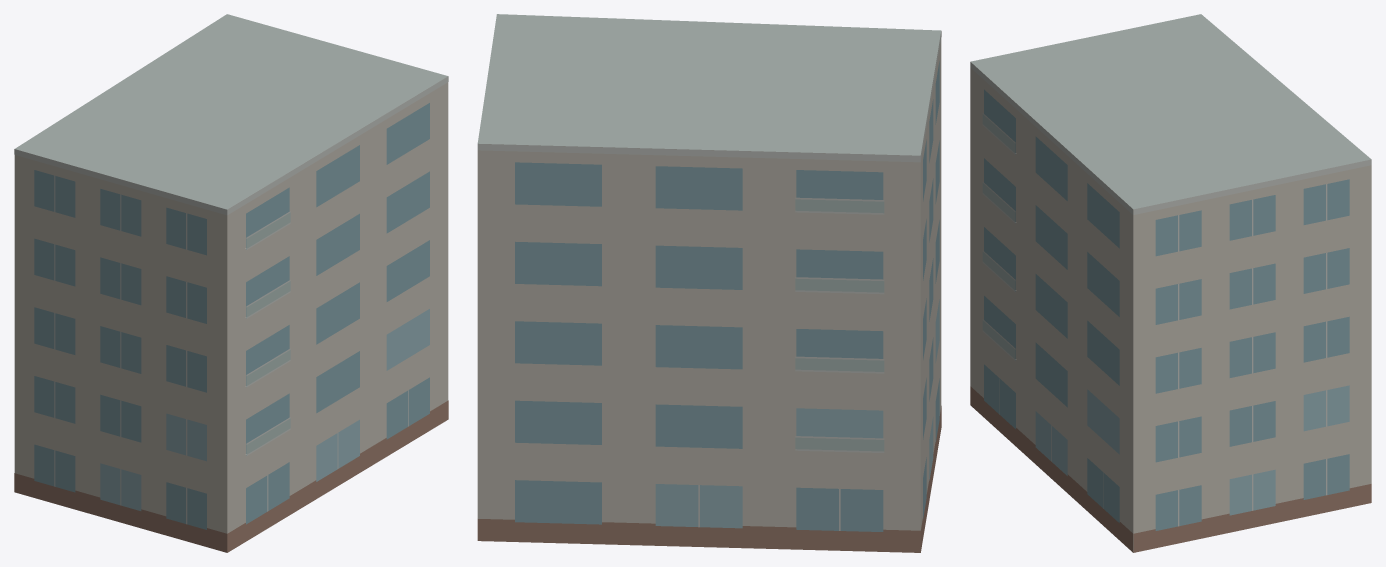
Rendered from survey-upis-32939621.glb.
3 views of the same model, side by side, from view 1: azimuth 30°, elevation 25°; view 2: azimuth 150°, elevation 25°; view 3: azimuth 270°, elevation 25° (orthographic). The views are drawn at different scales.
Parts seen in each view (by area): view 1: survey-upis-32939621.tmp; view 2: survey-upis-32939621.tmp; view 3: survey-upis-32939621.tmp.
Boxes of the visible parts, box(x1,y1,x2,y2) form: survey-upis-32939621.tmp: box(14, 14, 448, 552); survey-upis-32939621.tmp: box(477, 14, 941, 552); survey-upis-32939621.tmp: box(970, 14, 1371, 552).
Bounding box in the file's own units: 17.76 × 14.55 × 15.42.
